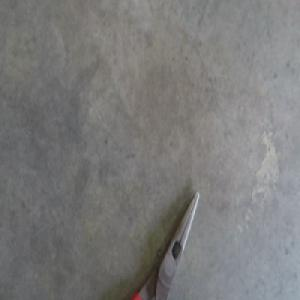Pliers: (132, 189, 199, 299)
